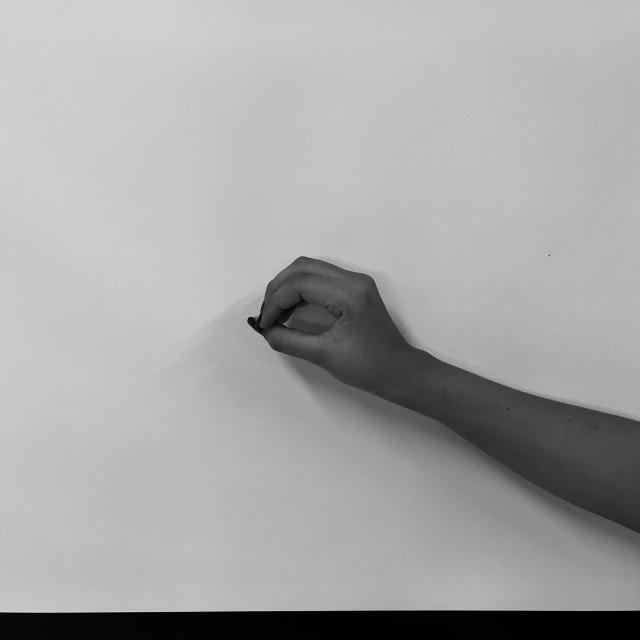Letra O: (240, 251, 407, 390)
